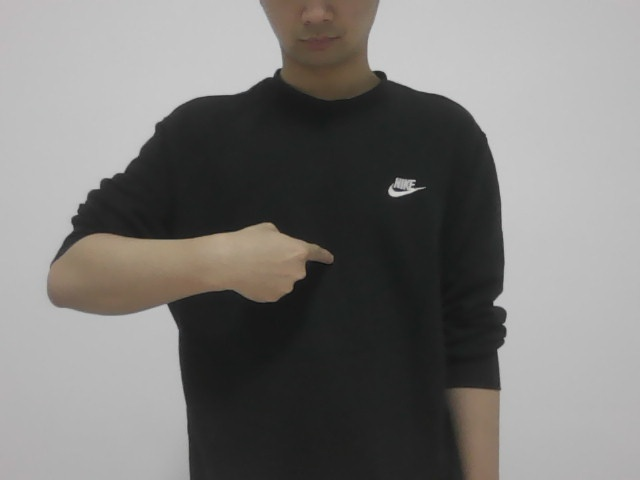I/me: (207, 221, 355, 309)
